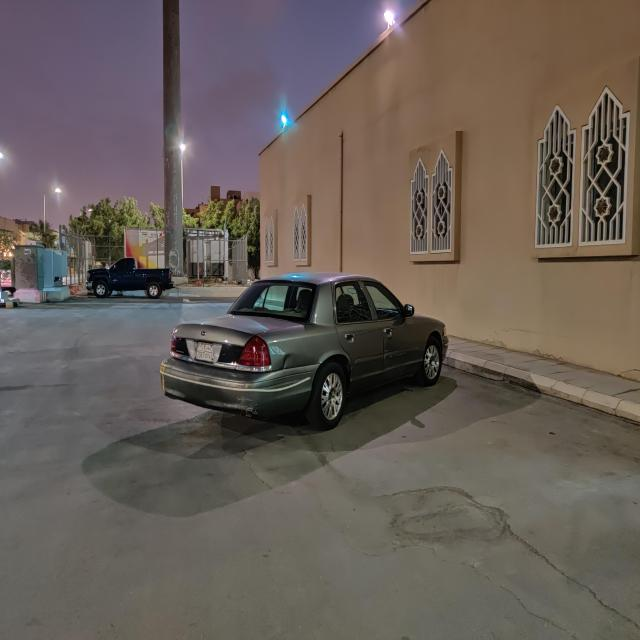license_plate: (195, 341, 215, 362)
